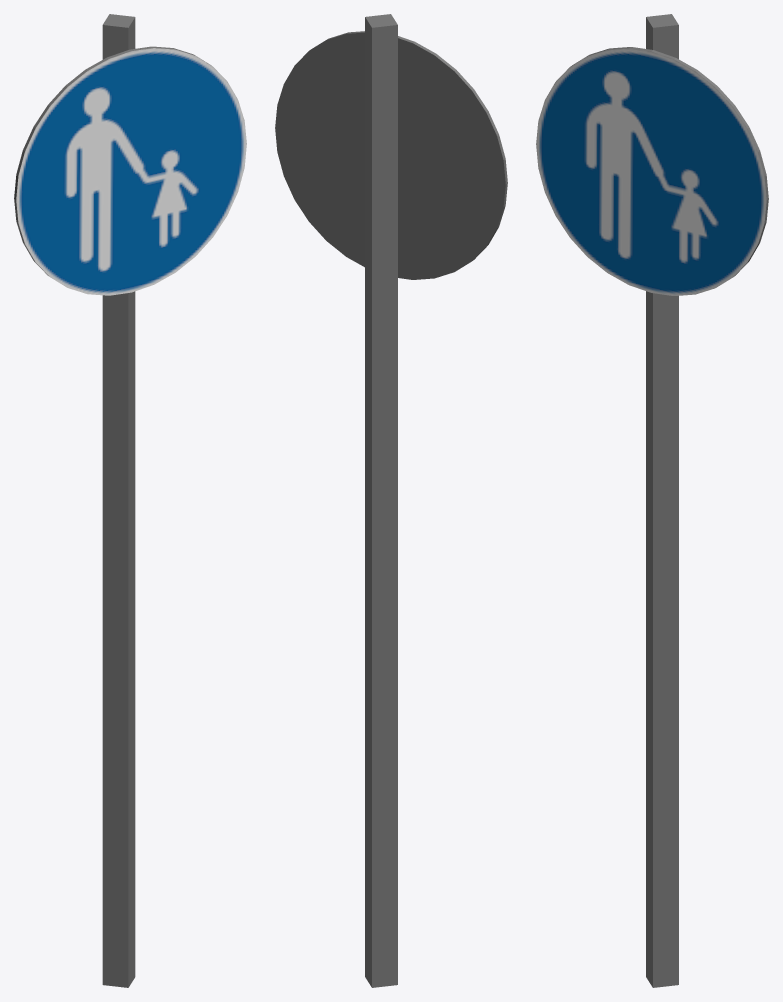
Rendered from School.obj.
3 renders of one model, left to right at view 1: azimuth 30°, elevation 25°; view 2: azimuth 150°, elevation 25°; view 3: azimuth 330°, elevation 25°, orthographic.
Visible parts, largest first — view 1: Sign_PedestrianLane; view 2: Sign_PedestrianLane; view 3: Sign_PedestrianLane.
Part boxes in pixels (<box>): Sign_PedestrianLane: <box>14,14,246,987</box>; Sign_PedestrianLane: <box>275,14,507,987</box>; Sign_PedestrianLane: <box>536,14,768,987</box>.
Bounding box in the file's own units: 1.12 × 4.44 × 0.1782.
Materials: 1 (1 with a texture image).
